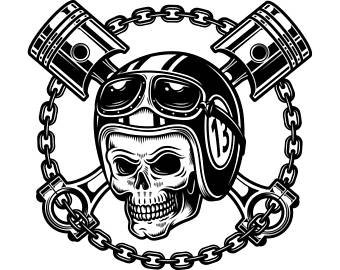with_helmet: (93, 51, 247, 199)
